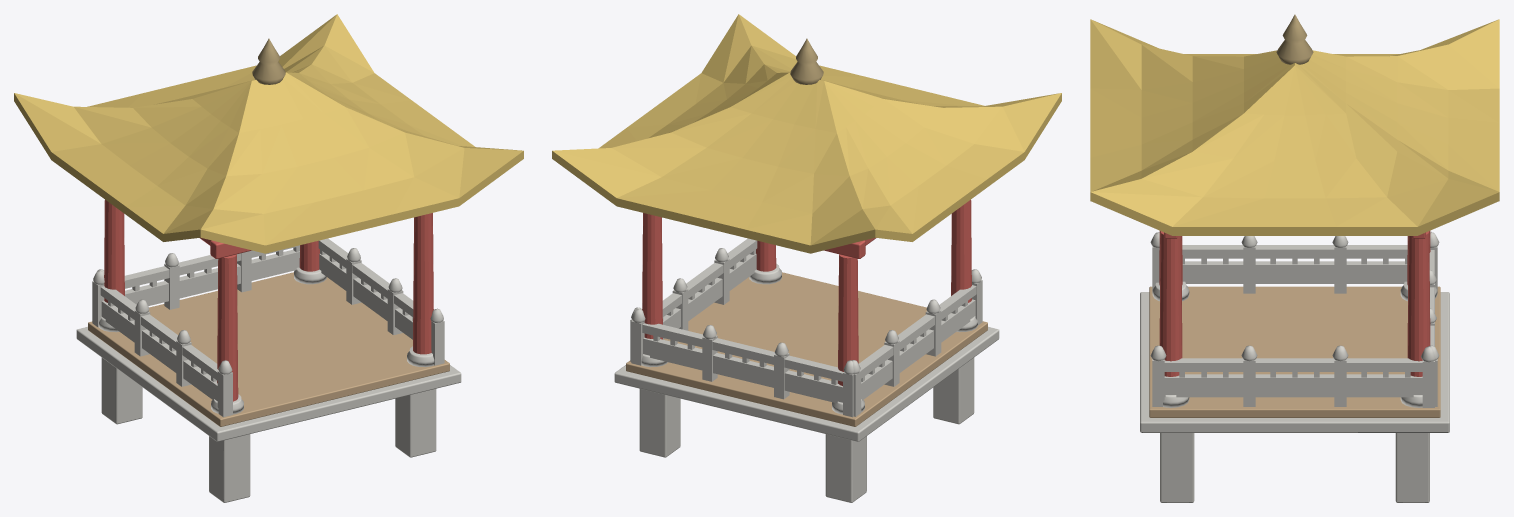
The model's file is pavilion.gltf.
3 renders of one model, left to right at view 1: azimuth 30°, elevation 25°; view 2: azimuth 150°, elevation 25°; view 3: azimuth 270°, elevation 25°, orthographic. The views are drawn at different scales.
Visible parts, largest first — view 1: 134-water-pavilion/4, 134-water-pavilion/0, 134-water-pavilion/1, 134-water-pavilion/2, 134-water-pavilion/5; view 2: 134-water-pavilion/4, 134-water-pavilion/0, 134-water-pavilion/1, 134-water-pavilion/2, 134-water-pavilion/5; view 3: 134-water-pavilion/4, 134-water-pavilion/0, 134-water-pavilion/1, 134-water-pavilion/2, 134-water-pavilion/5.
Part boxes in pixels (left/top/right/bottom): 134-water-pavilion/4: left=14, top=14, right=523, bottom=253; 134-water-pavilion/0: left=76, top=238, right=461, bottom=502; 134-water-pavilion/1: left=88, top=272, right=449, bottom=426; 134-water-pavilion/2: left=104, top=200, right=433, bottom=401; 134-water-pavilion/5: left=252, top=38, right=285, bottom=84; 134-water-pavilion/4: left=552, top=14, right=1061, bottom=253; 134-water-pavilion/0: left=614, top=238, right=999, bottom=502; 134-water-pavilion/1: left=626, top=272, right=987, bottom=426; 134-water-pavilion/2: left=642, top=200, right=971, bottom=385; 134-water-pavilion/5: left=790, top=38, right=823, bottom=84; 134-water-pavilion/4: left=1090, top=19, right=1499, bottom=235; 134-water-pavilion/0: left=1140, top=231, right=1449, bottom=502; 134-water-pavilion/1: left=1149, top=286, right=1440, bottom=417; 134-water-pavilion/2: left=1159, top=231, right=1430, bottom=376; 134-water-pavilion/5: left=1276, top=14, right=1313, bottom=64.
Bounding box in the file's own units: 6.6 × 7.7 × 6.6.
